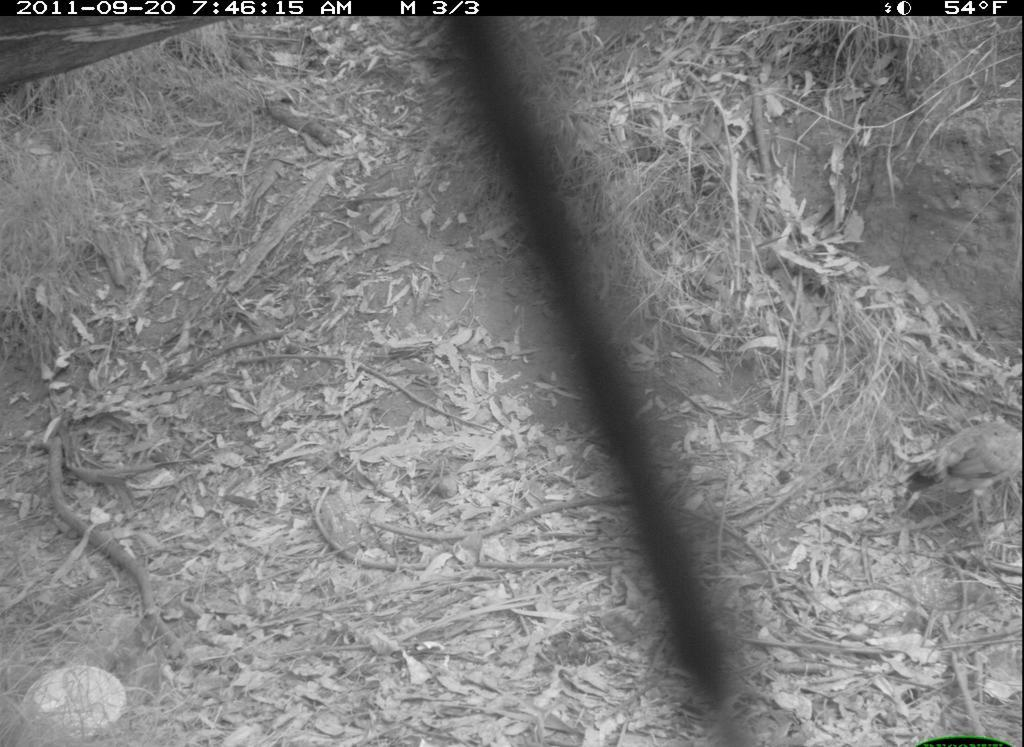bird: (890, 399, 1023, 523)
